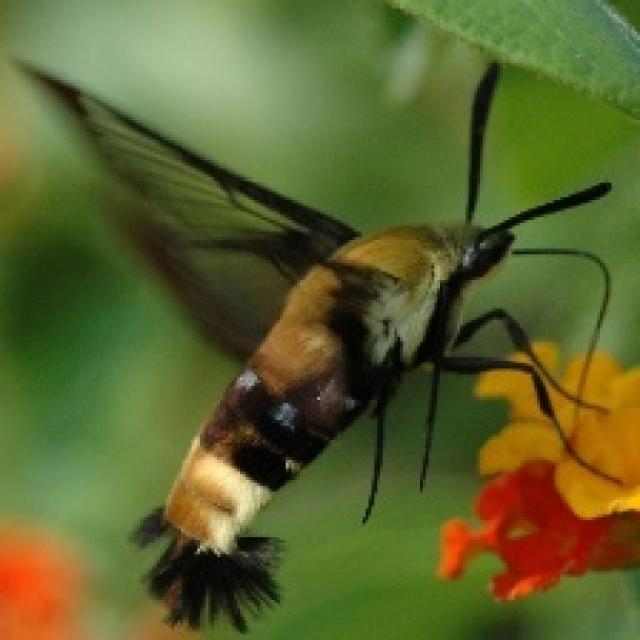butterfly: (9, 49, 620, 634)
